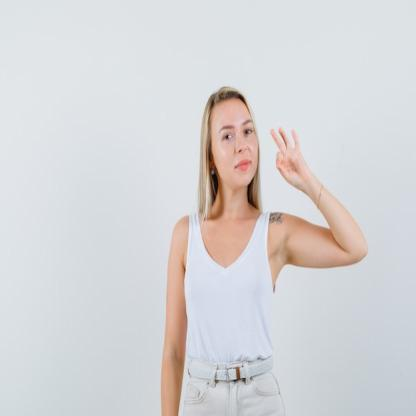ok: (268, 122, 310, 192)
